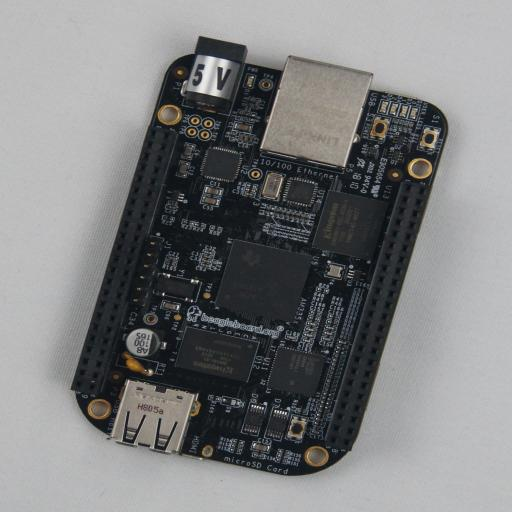Beaglebone Black: (70, 36, 448, 476)
